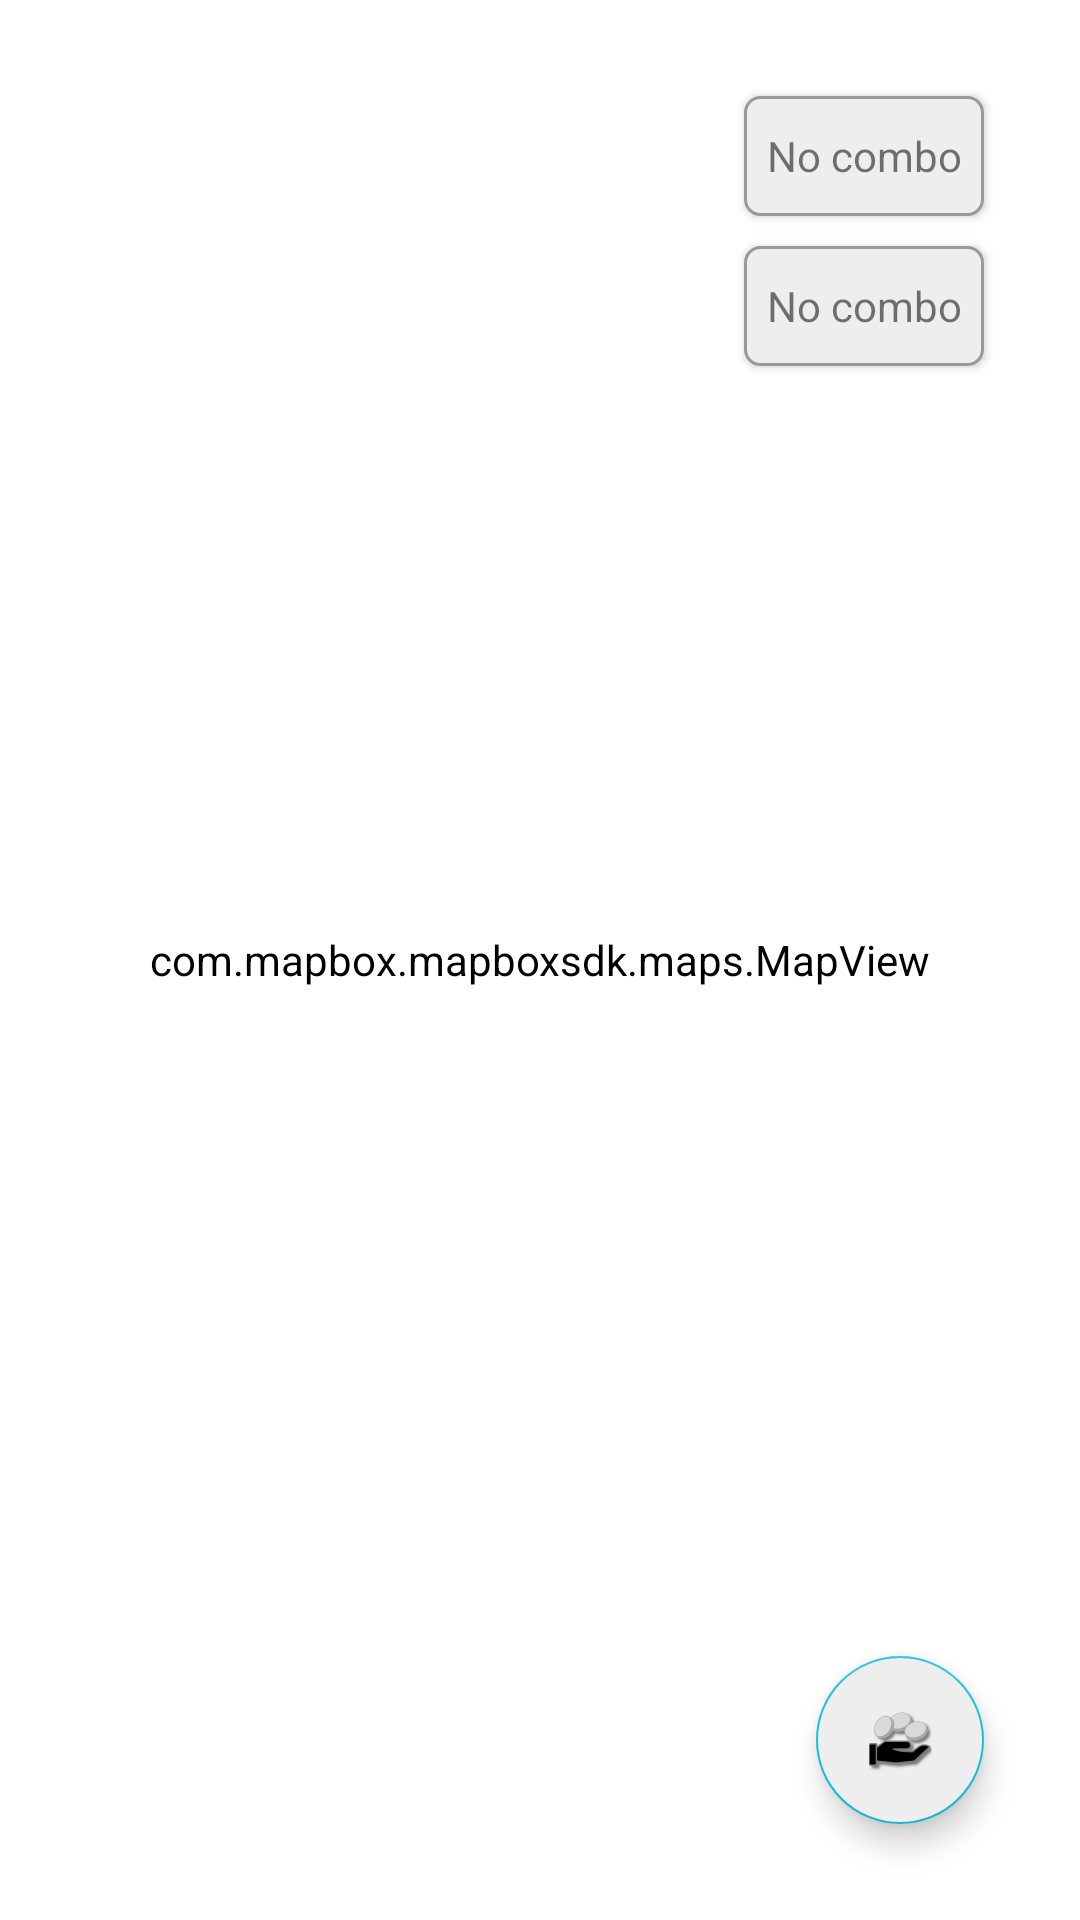

Named icons in this screenshot (1080w x 1920h) and their centers, point (x, y):
fab pickup: point (900, 1741)
